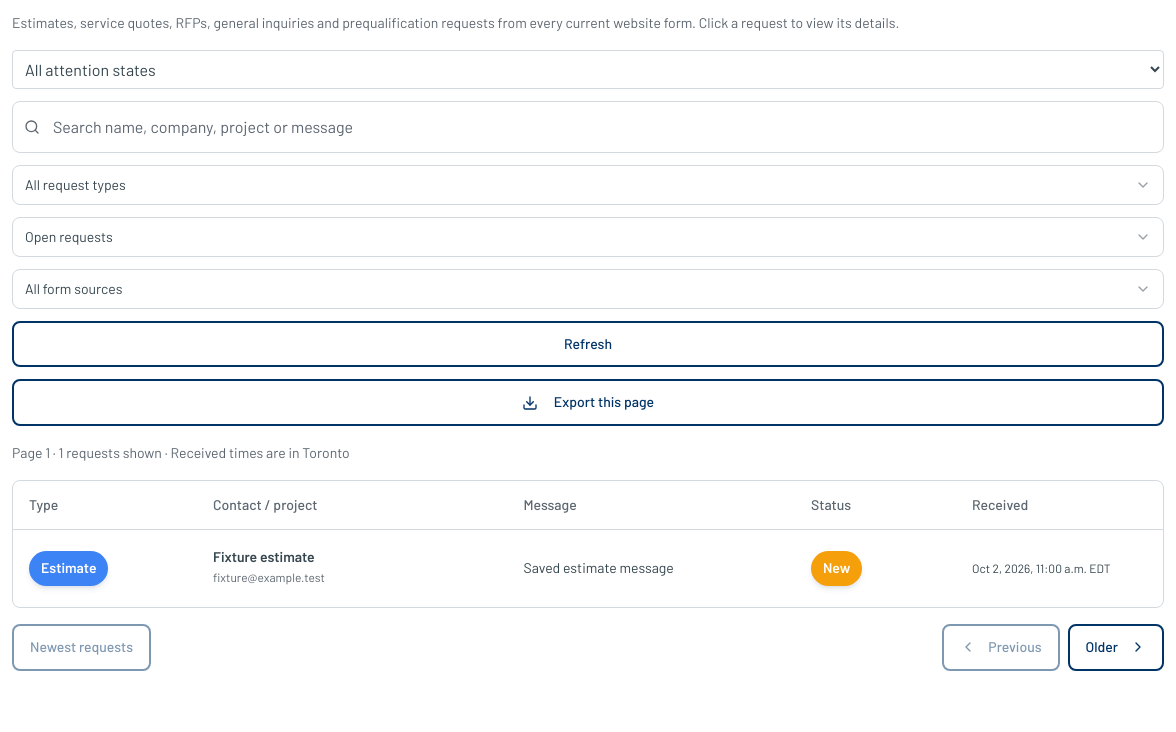
it: Leads workspace behavior › uses the continuation cursor, restores the previous page, and resets pagination when search changes
This screenshot has width=1176, height=732.
Later steps or results of the test are not shown.
Click the button "Older" at [1116, 647], box [1068, 624, 1164, 671]
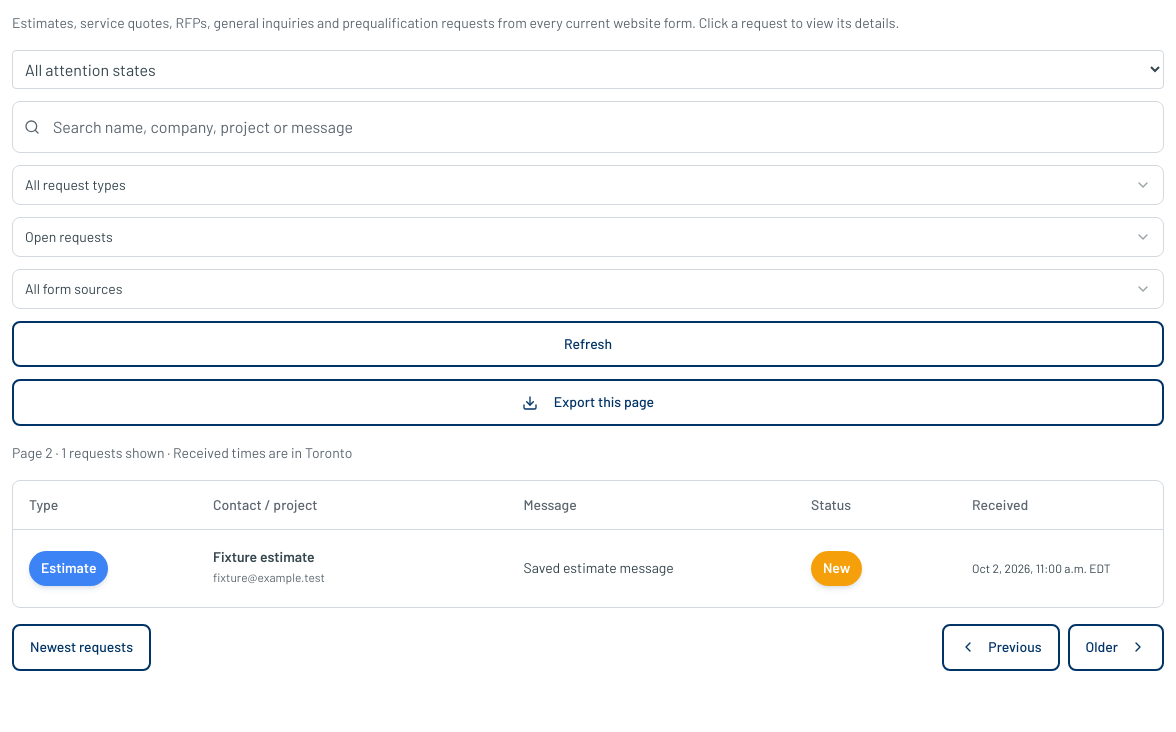
Now the text "Page 2 · 1 requests shown · Received times are in Toronto" is shown, box [12, 444, 352, 461]
Type "Roof" into the field named "Search leads" at [588, 127], box [12, 101, 1164, 153]
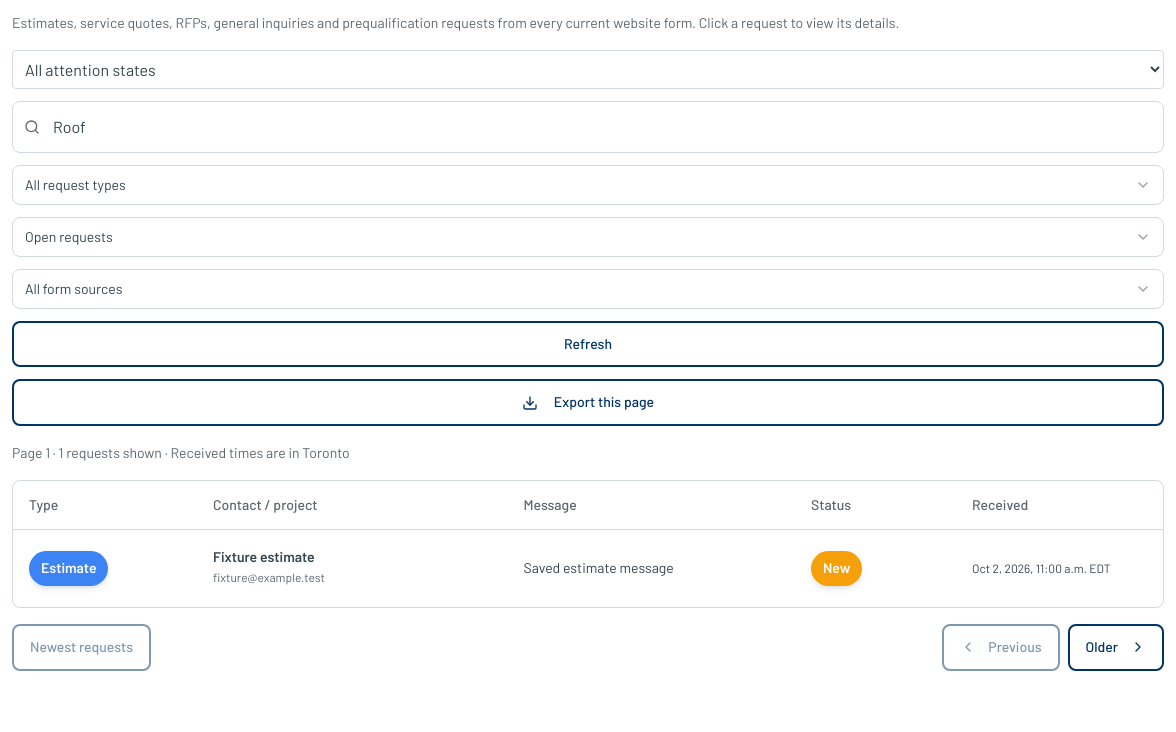
Now the text "Page 1 · 1 requests shown · Received times are in Toronto" is shown, box [12, 444, 350, 461]
